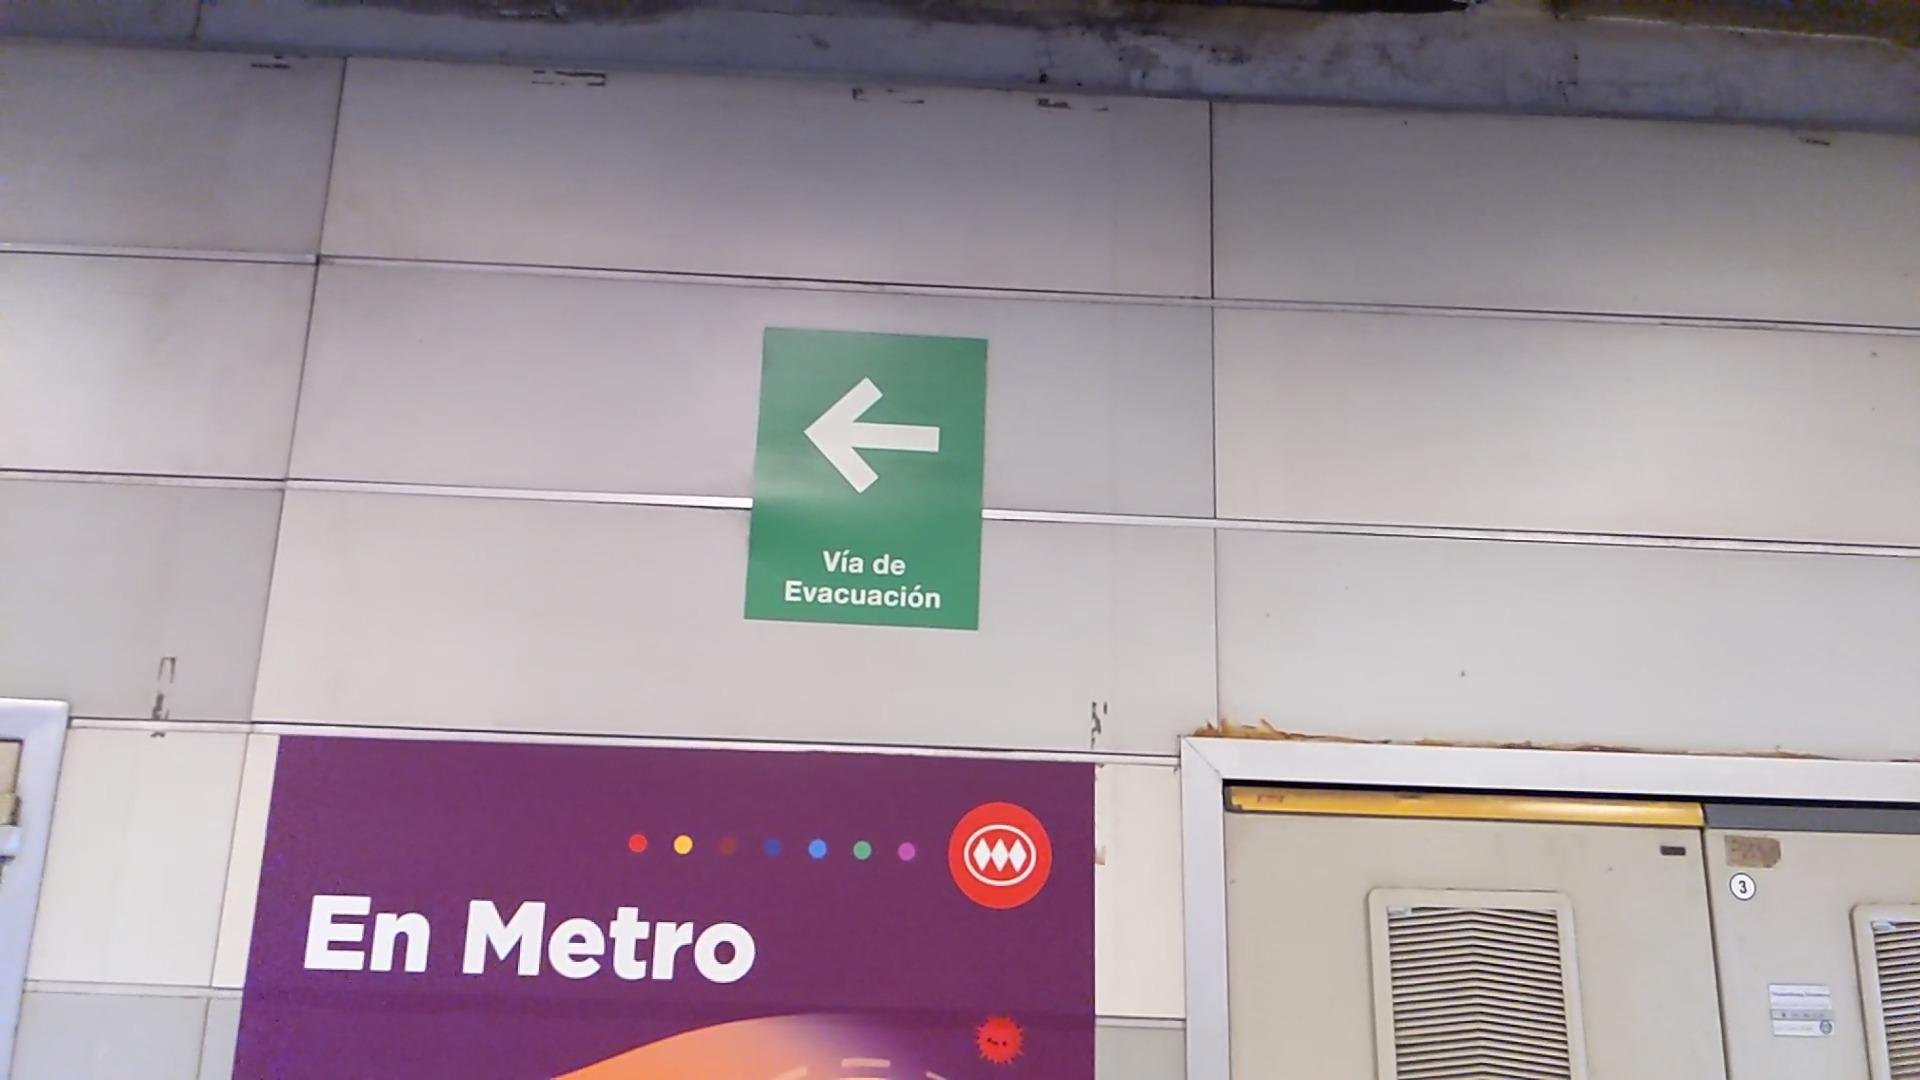emergency left arrow: (799, 372, 945, 498)
